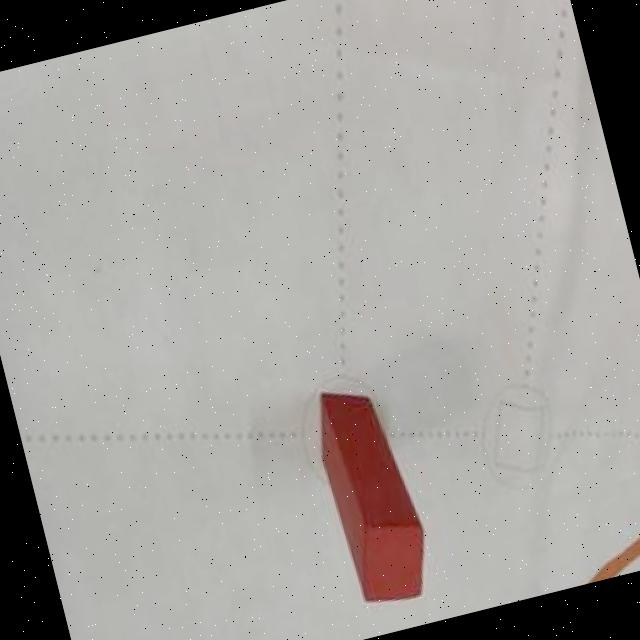redbox: (304, 377, 438, 612)
